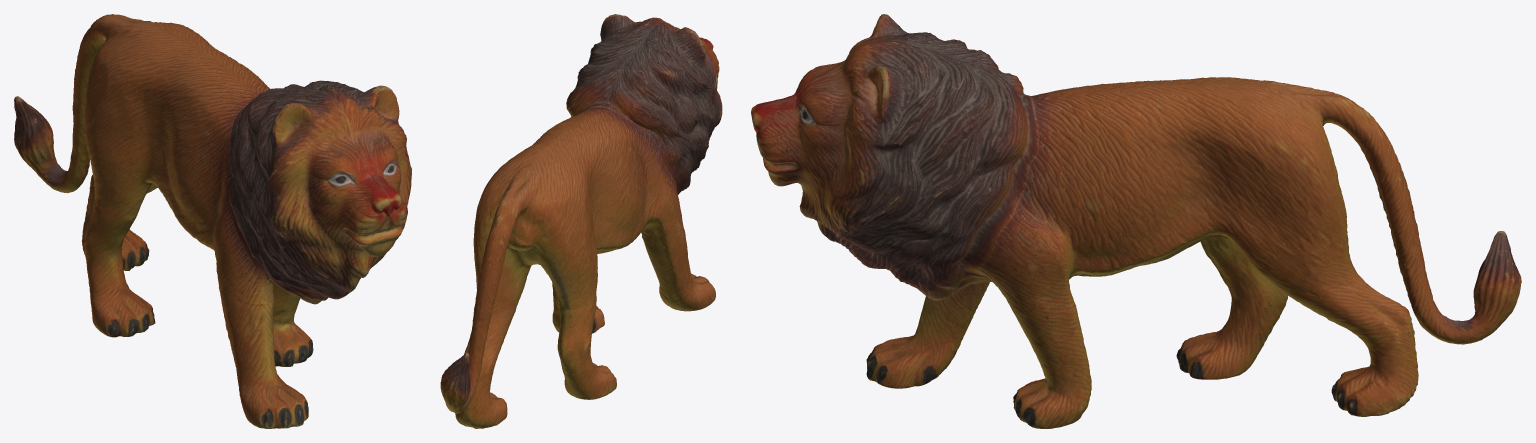
File: lion.glb
3 renders of one model, left to right at view 1: azimuth 30°, elevation 25°; view 2: azimuth 150°, elevation 25°; view 3: azimuth 270°, elevation 25°, orthographic. The views are drawn at different scales.
Parts seen in each view (by area): view 1: Object_2; view 2: Object_2; view 3: Object_2.
Boxes of the visible parts, bbox=[...] form: Object_2: bbox=[14, 14, 411, 428]; Object_2: bbox=[440, 14, 722, 428]; Object_2: bbox=[751, 14, 1521, 428].
Bounding box in the file's own units: 4.16 × 7.89 × 15.02.
1 material, 1 textured.
